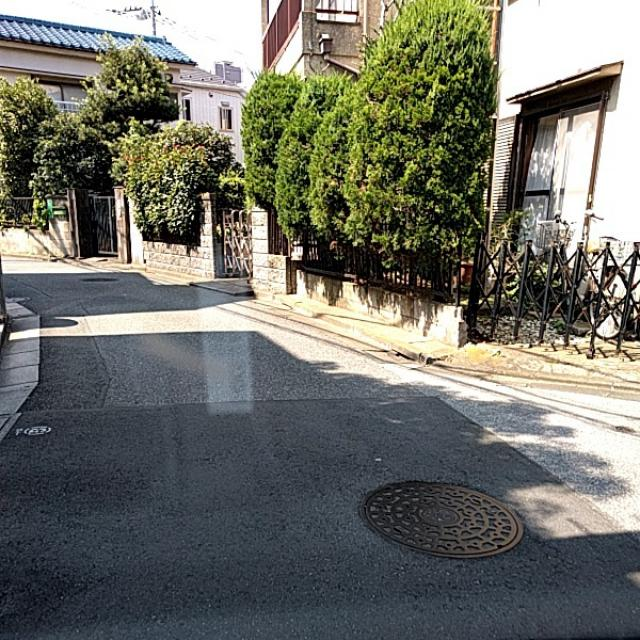pothole: (100, 358, 143, 421)
